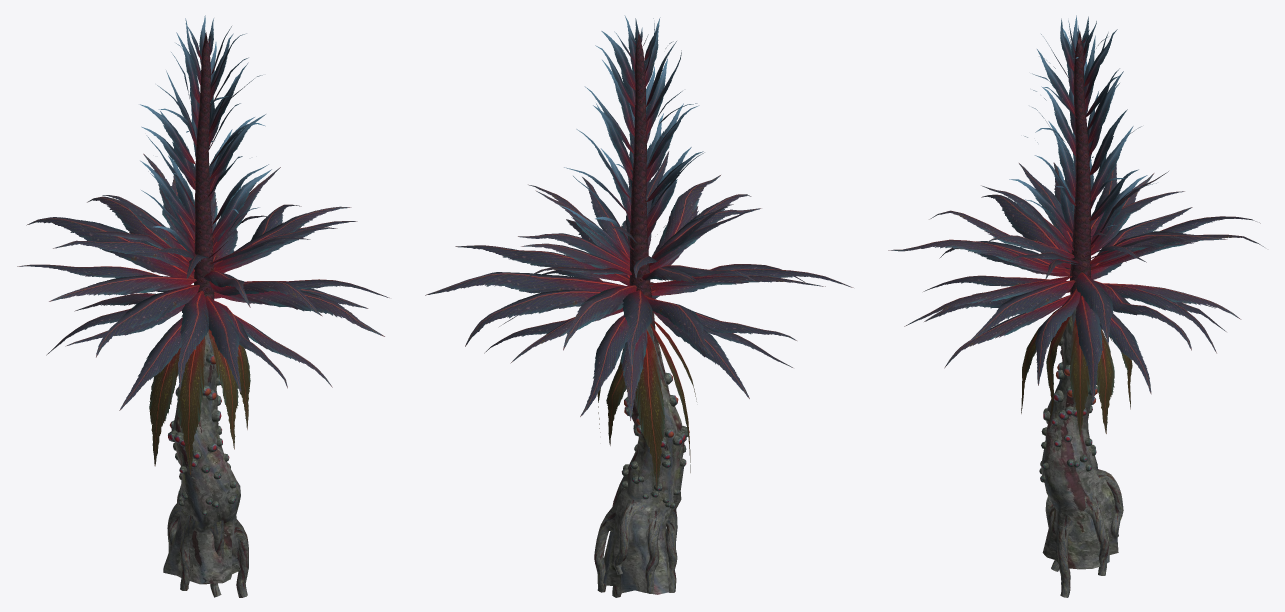
File: Plant - Alien Plant 15B-CMsMkHz_.glb
3 views of the same model, side by side, from view 1: azimuth 30°, elevation 25°; view 2: azimuth 150°, elevation 25°; view 3: azimuth 270°, elevation 25° (orthographic). The views are drawn at different scales.
Visible parts, largest first — view 1: Plant15B(Clone); view 2: Plant15B(Clone); view 3: Plant15B(Clone).
Boxes of the visible parts, x1=… form: Plant15B(Clone): x1=17, y1=15, x2=389, y2=597; Plant15B(Clone): x1=425, y1=15, x2=853, y2=597; Plant15B(Clone): x1=888, y1=15, x2=1264, y2=597.
Size of the model in its own units: 8.09 by 13.09 by 8.12.
4 materials, 4 textured.
